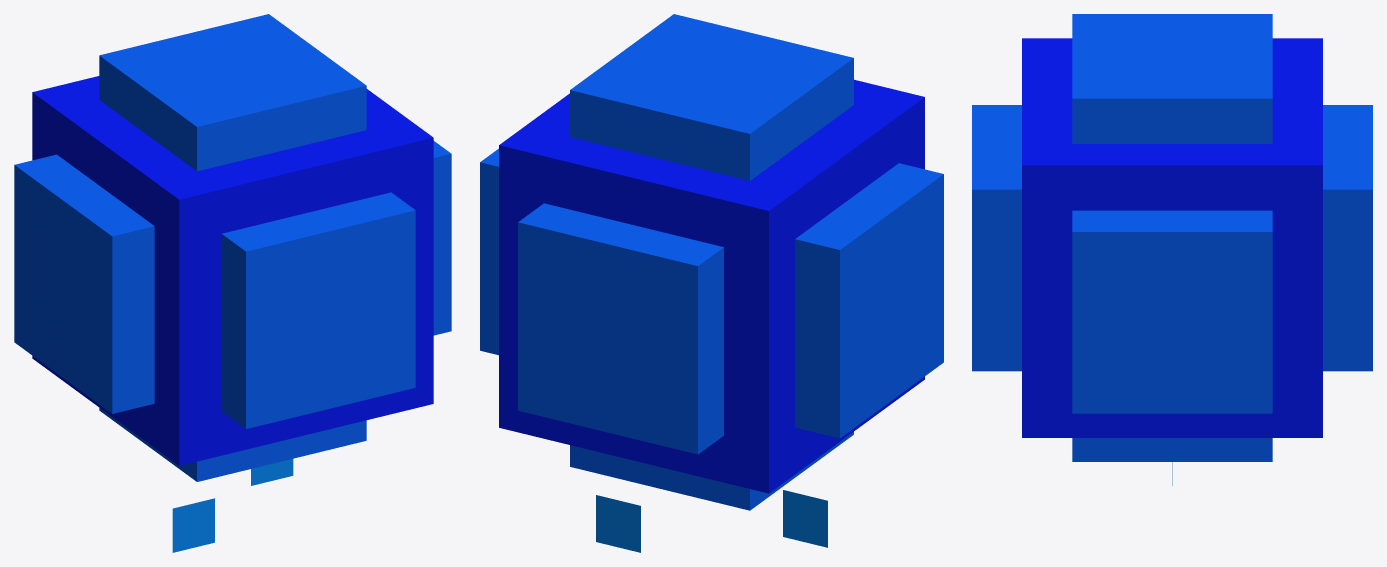
File: water-droplet-game-jam.gltf
The picture shows the model from 3 angles, left to right: view 1: azimuth 30°, elevation 25°; view 2: azimuth 150°, elevation 25°; view 3: azimuth 270°, elevation 25°; orthographic projection. The views are drawn at different scales.
Visible parts, largest first — view 1: cube (×8); view 2: cube (×8); view 3: cube (×6).
Part boxes in pixels (x1,y1,x2,y2): cube (×8): [14, 14, 451, 552]; cube (×8): [480, 14, 943, 552]; cube (×6): [972, 14, 1372, 461].
Size of the model in its own units: 0.5 by 0.625 by 0.5.
10 materials, 10 textured.
